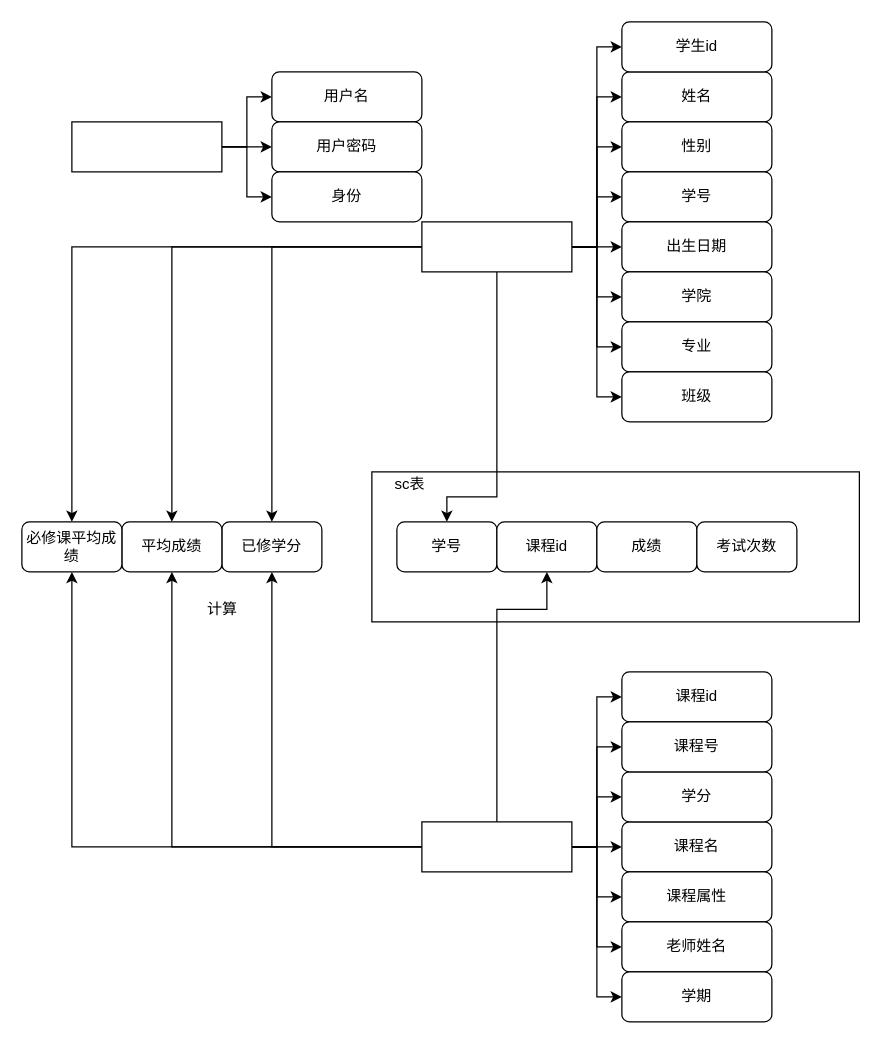
This 881x1044 diagram has some shape labels left out. Each missing label, with the centre of its shape:
"学生表" goes at (496,246).
"用户表" goes at (146,146).
"课程表" goes at (496,846).
